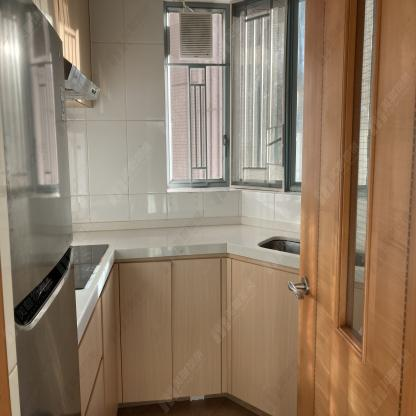Cupboard: (78, 254, 301, 416)
Exhaust Fan: (178, 10, 213, 60)
Exhaust Hood: (62, 54, 101, 103)
Sink: (255, 232, 303, 258)
Stove: (73, 245, 108, 290)
